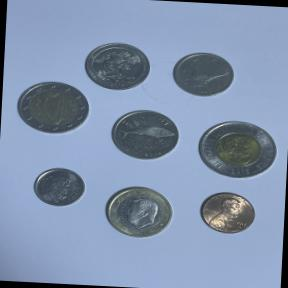1 Euro-B: (96, 180, 182, 246)
2 Euro-B: (13, 77, 92, 138)
Canada-10cent-B: (28, 164, 90, 214)
Canada-2Dollar-B: (191, 115, 283, 184)
Croatia-2Kune-B: (106, 106, 184, 166)
US-1cent-B: (192, 186, 262, 240)
US-25cent-B: (81, 37, 154, 94)
